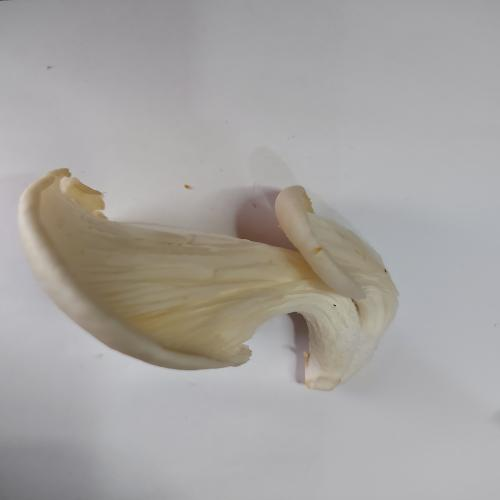Oyster Mushroom: (17, 166, 400, 392)
